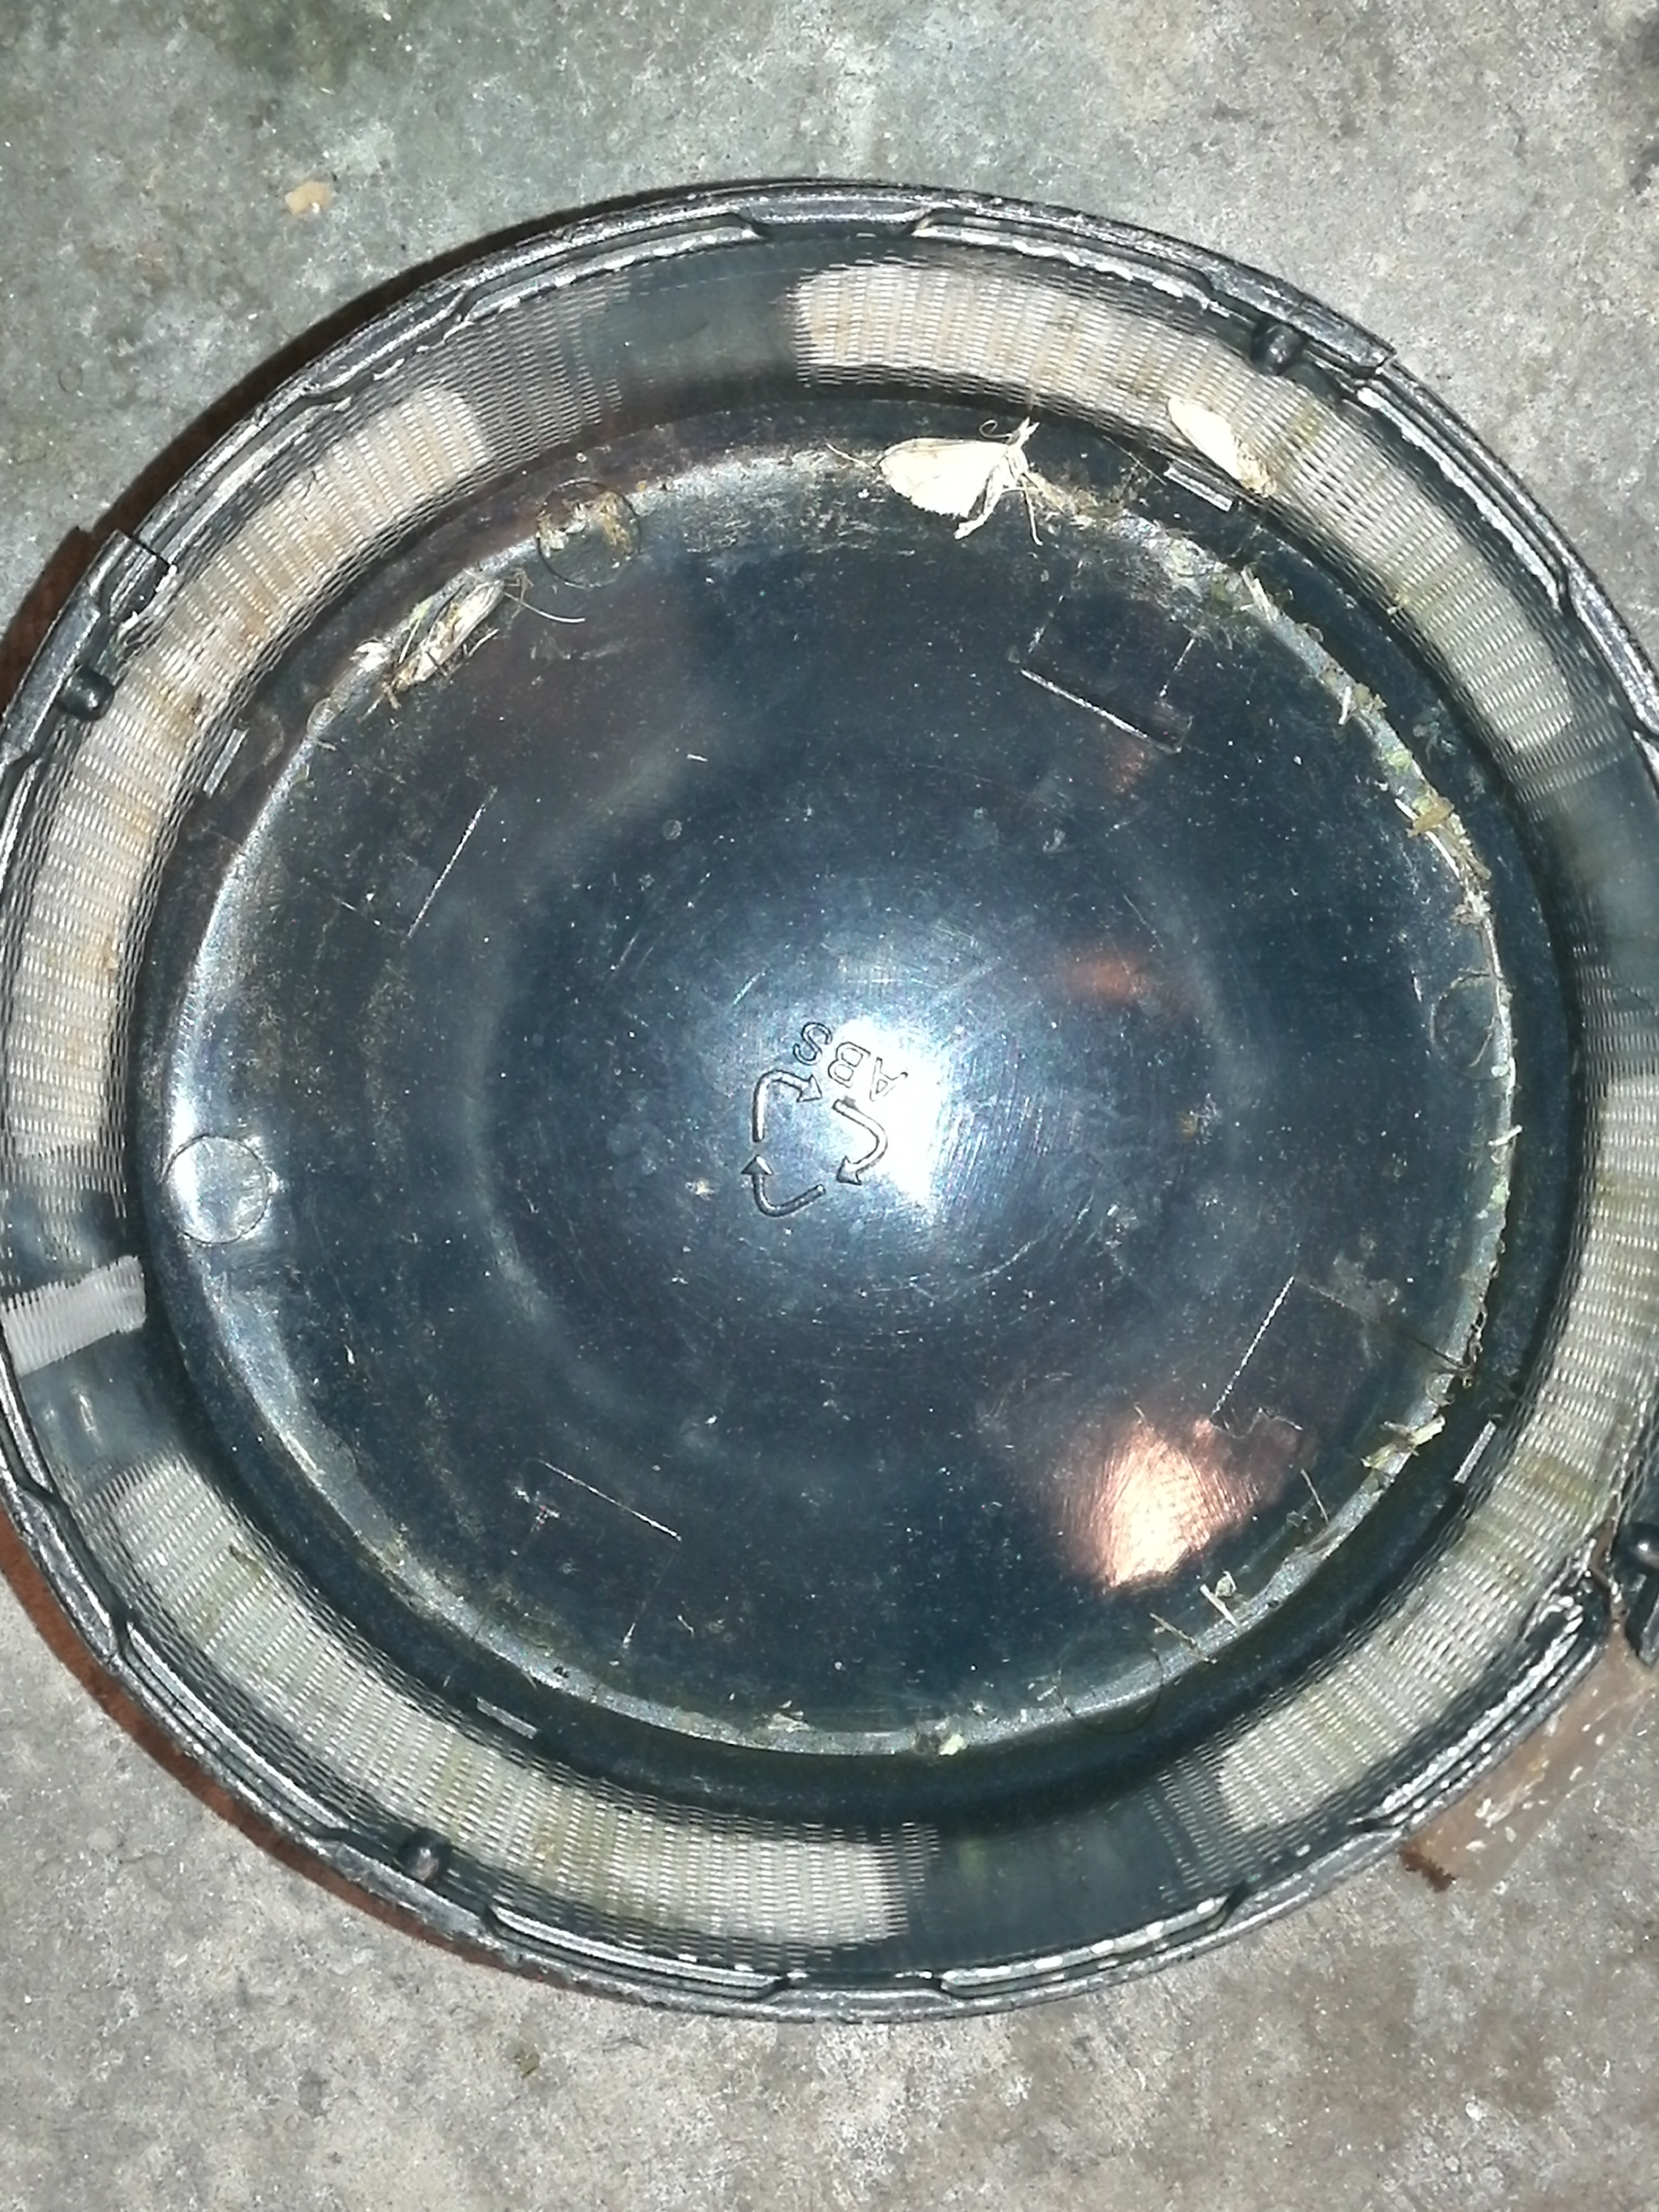mosquito: (392, 580, 505, 690), (1166, 397, 1279, 496), (1403, 799, 1453, 838)
moth: (880, 418, 1039, 538)
